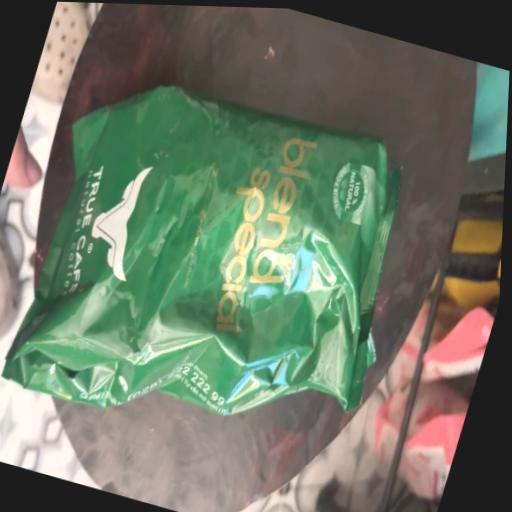cafe_xay: (2, 86, 399, 415)
